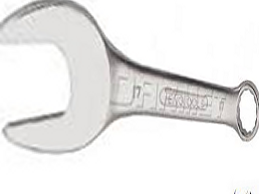Wrench: (2, 2, 259, 164)
